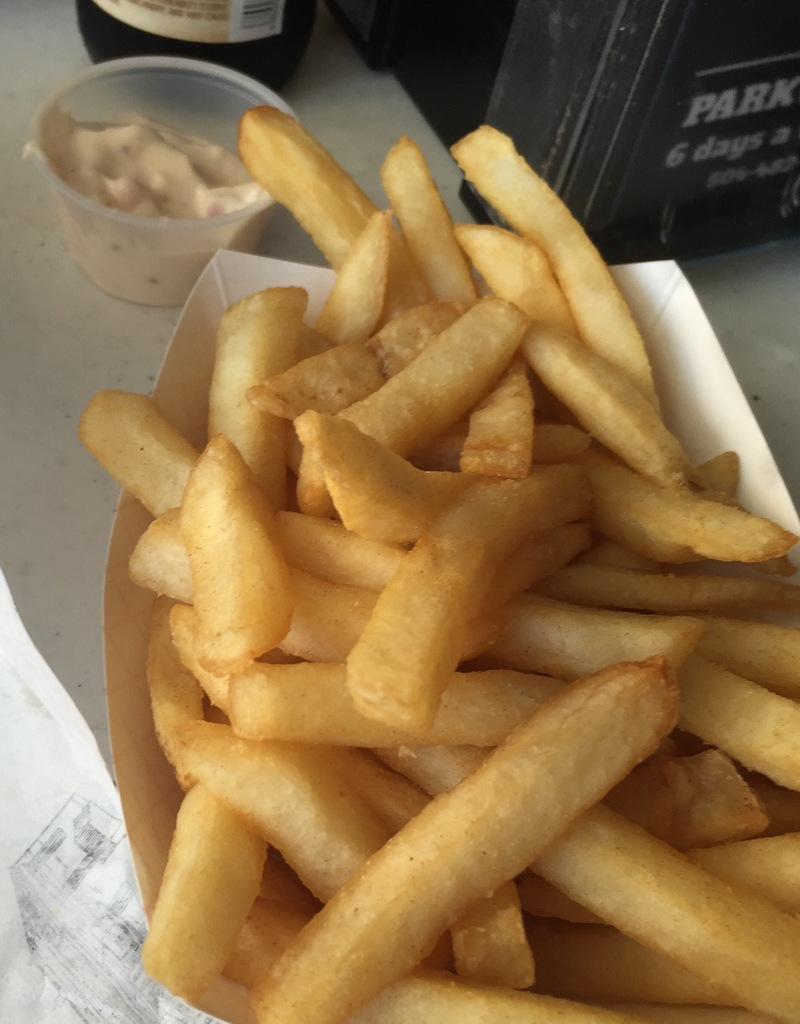French fries: (68, 94, 799, 1023)
